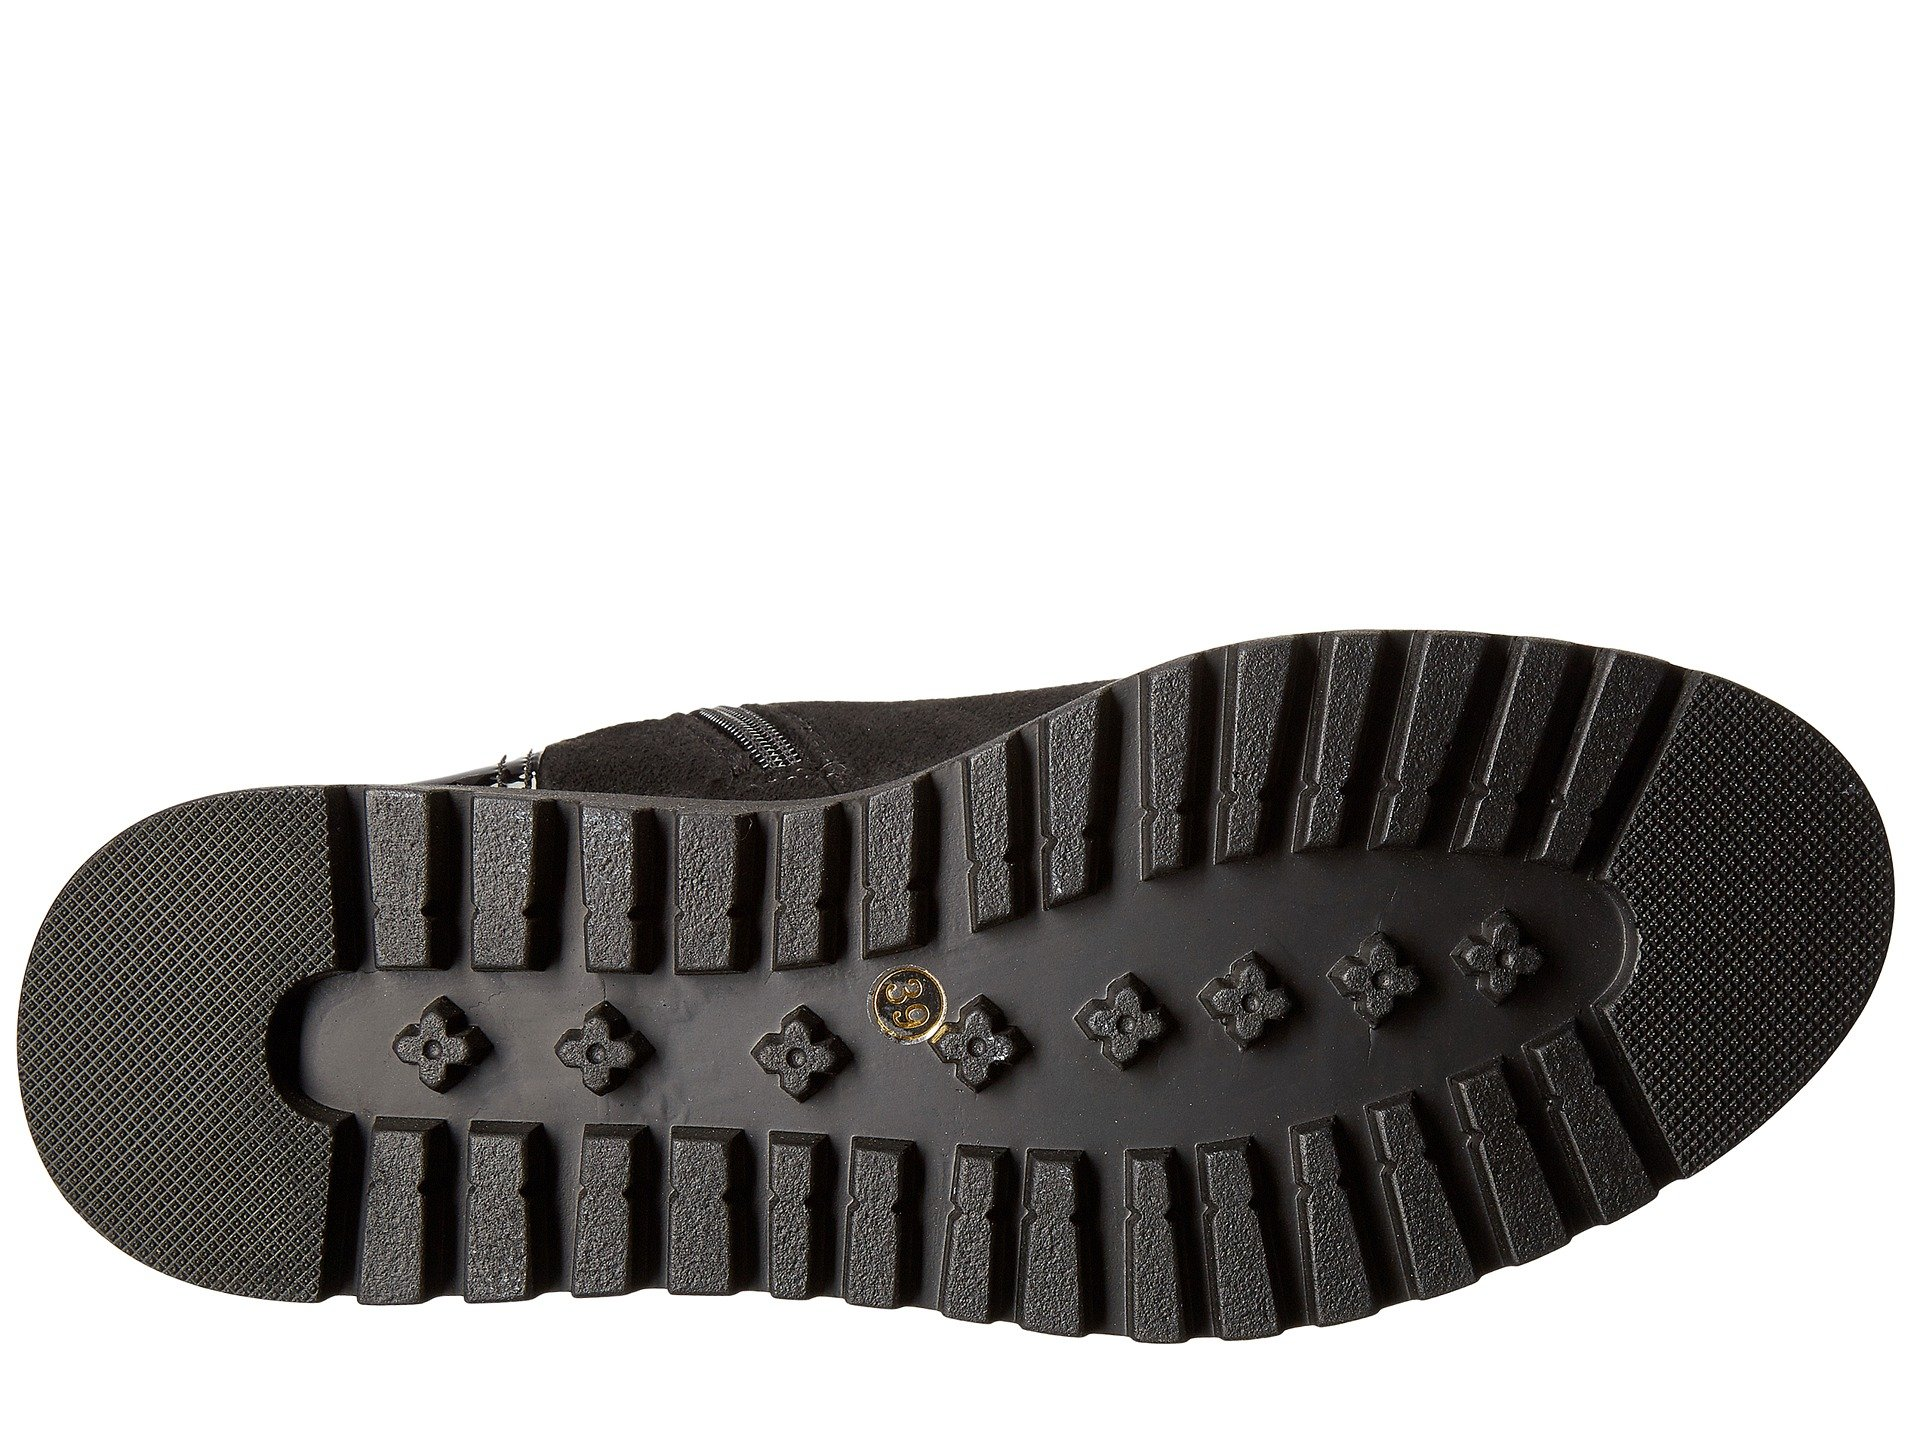bowtie: (1349, 573, 1631, 886)
circle: (887, 911, 1079, 1150)
star: (1160, 874, 1444, 1092), (887, 911, 1079, 1150), (290, 954, 505, 1103), (714, 962, 881, 1150)
text: (887, 911, 1079, 1150)
